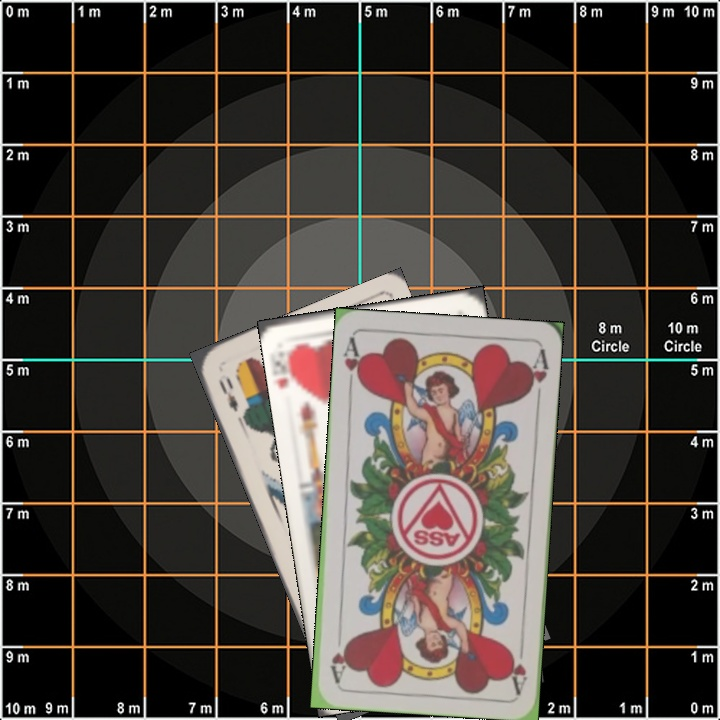EO: (214, 373, 241, 414)
HA: (339, 334, 367, 393), (505, 635, 530, 694)
HK: (273, 345, 301, 390)
